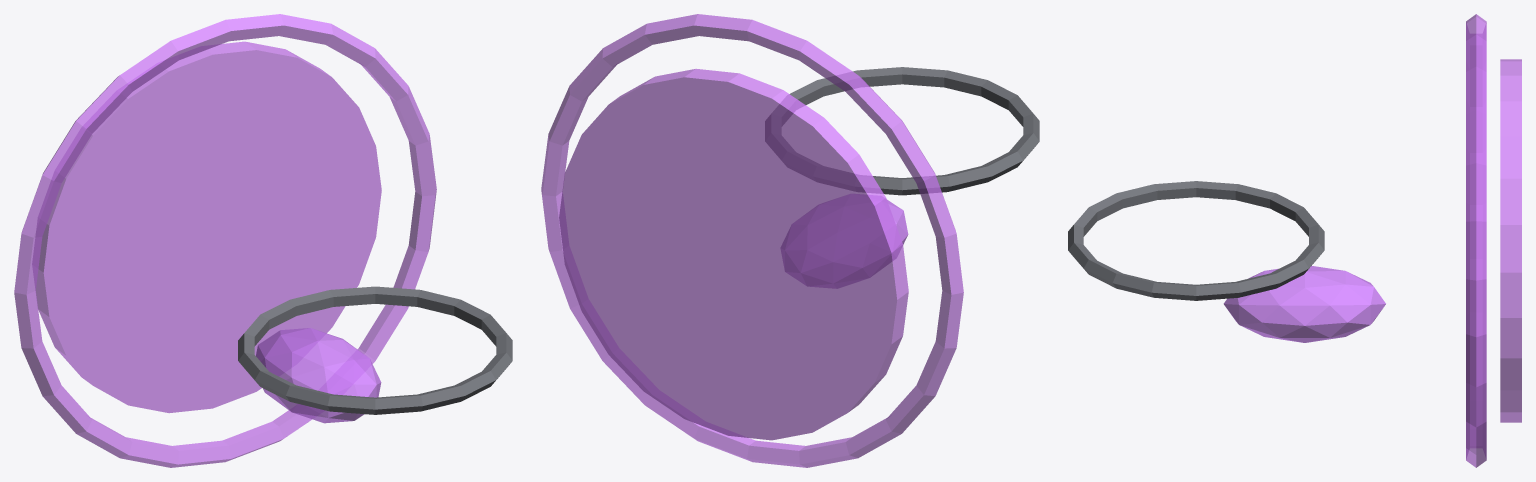
File: accessory_pickup_amulet_epic.glb
3 renders of one model, left to right at view 1: azimuth 30°, elevation 25°; view 2: azimuth 150°, elevation 25°; view 3: azimuth 270°, elevation 25°, orthographic. The views are drawn at different scales.
Parts seen in each view (by area): view 1: rarity_base_disc, rarity_orbit_ring, chain, gem; view 2: rarity_base_disc, rarity_orbit_ring, chain, gem; view 3: chain, rarity_orbit_ring, gem, rarity_base_disc.
Part boxes in pixels (x1=…): rarity_base_disc: x1=32, y1=41, x2=381, y2=413; rarity_orbit_ring: x1=14, y1=14, x2=436, y2=467; chain: x1=238, y1=286, x2=512, y2=414; gem: x1=256, y1=328, x2=381, y2=423; rarity_base_disc: x1=559, y1=68, x2=908, y2=440; rarity_orbit_ring: x1=541, y1=14, x2=963, y2=467; chain: x1=765, y1=67, x2=1039, y2=195; gem: x1=781, y1=194, x2=908, y2=288; chain: x1=1068, y1=181, x2=1324, y2=300; rarity_orbit_ring: x1=1466, y1=14, x2=1486, y2=467; gem: x1=1223, y1=266, x2=1385, y2=342; rarity_base_disc: x1=1500, y1=59, x2=1521, y2=422.
Size of the model in its own units: 1.05 by 1.05 by 1.05.
